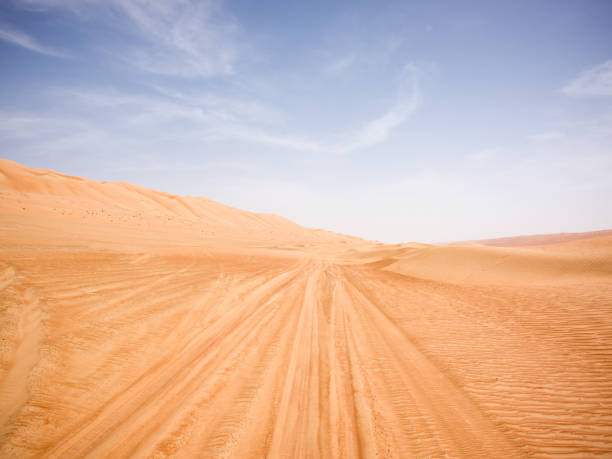vehicle_track: (0, 254, 611, 456), (45, 299, 271, 456), (343, 276, 519, 456)
